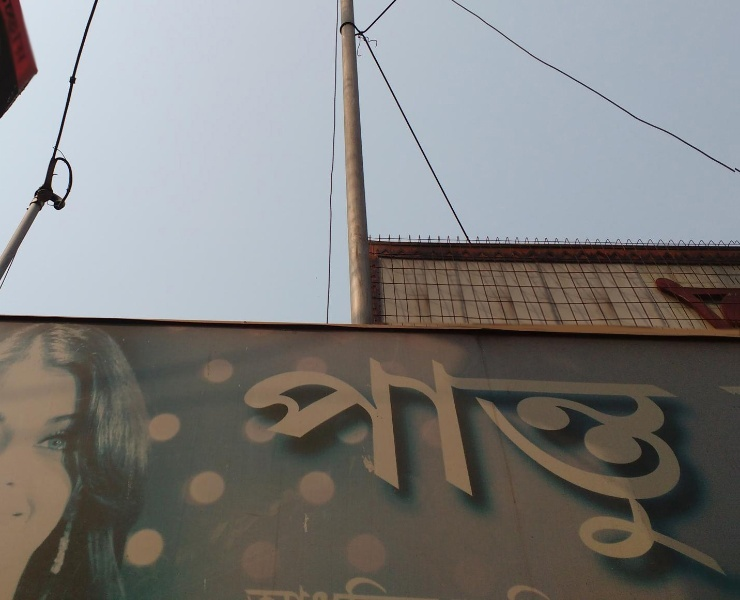text: (241, 354, 256, 578), (257, 354, 272, 578), (273, 354, 288, 578), (289, 354, 304, 578), (305, 354, 320, 578), (321, 354, 336, 578), (337, 354, 352, 578), (353, 354, 368, 578), (369, 354, 384, 578), (385, 354, 400, 578), (401, 354, 416, 578), (417, 354, 432, 578), (433, 354, 448, 578), (449, 354, 464, 578), (465, 354, 480, 578), (481, 354, 496, 578), (497, 354, 512, 578), (513, 354, 528, 578), (529, 354, 544, 578), (545, 354, 560, 578), (561, 354, 576, 578), (577, 354, 592, 578), (593, 354, 608, 578), (609, 354, 624, 578), (625, 354, 640, 578), (641, 354, 656, 578), (657, 354, 672, 578), (673, 354, 688, 578), (689, 354, 704, 578), (705, 354, 720, 578), (721, 354, 728, 578), (237, 354, 240, 578), (241, 568, 256, 598), (257, 568, 272, 598), (273, 568, 288, 598), (289, 568, 304, 598), (305, 568, 320, 598), (321, 568, 336, 598), (337, 568, 352, 598), (353, 568, 368, 598), (369, 568, 384, 598), (385, 568, 400, 598), (401, 568, 416, 598), (417, 568, 432, 598), (433, 568, 448, 598), (449, 568, 464, 598), (465, 568, 480, 598), (481, 568, 496, 598), (497, 568, 512, 598), (513, 568, 528, 598), (529, 568, 544, 598), (545, 568, 560, 598), (561, 568, 576, 598), (577, 568, 592, 598), (593, 568, 608, 598), (609, 568, 614, 598), (236, 568, 240, 598)
